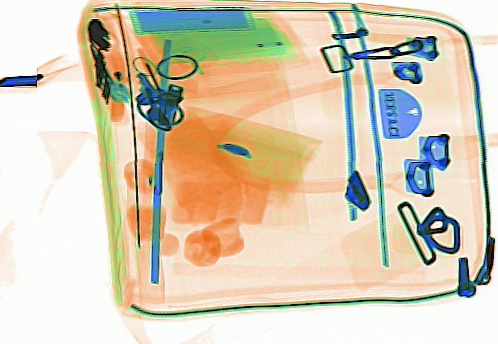lighter: (98, 50, 129, 102)
